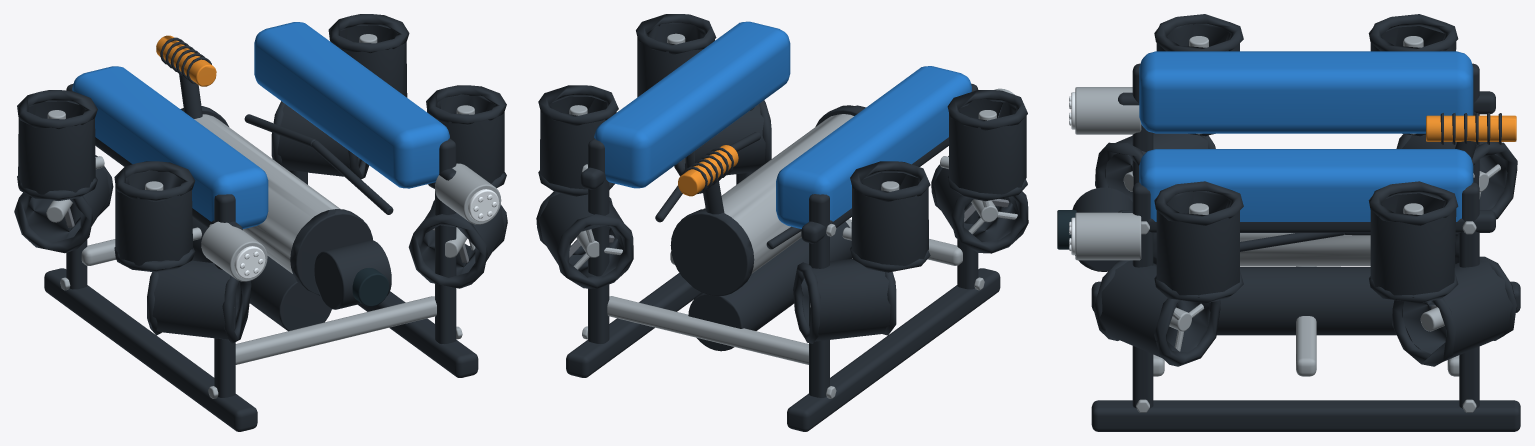
The model's file is bluerov2_heavy_lod2.glb.
3 views of the same model, side by side, from view 1: azimuth 30°, elevation 25°; view 2: azimuth 150°, elevation 25°; view 3: azimuth 270°, elevation 25° (orthographic). The views are drawn at different scales.
Visible parts, largest first — view 1: Buoyancy shoulder, Buoyancy shoulder.001, Skid rail.001, T8 open duct, T6 open duct, Electronics pressure housing, T2 open duct, Deck cross member.002, Battery housing, T5 open duct, Pressure end cap.001, Camera gimbal (+29 smaller); view 2: Buoyancy shoulder, Buoyancy shoulder.001, Skid rail.001, T6 open duct, Battery housing, T8 open duct, Pressure end cap, T4 open duct, Electronics pressure housing, Deck cross member, T7 open duct, Skid rail (+22 smaller); view 3: Buoyancy shoulder.001, Buoyancy shoulder, Skid rail, Battery housing, T7 open duct, T5 open duct, T3 open duct, T1 open duct, Electronics pressure housing, LED housing 0, LED housing 1, Frame upright (+25 smaller).
Part boxes in pixels (left/top/right/bottom): Buoyancy shoulder: left=254, top=22, right=449, bottom=188; Buoyancy shoulder.001: left=72, top=66, right=268, bottom=228; Skid rail.001: left=44, top=268, right=257, bottom=431; T8 open duct: left=18, top=101, right=95, bottom=194; T6 open duct: left=115, top=170, right=192, bottom=265; Electronics pressure housing: left=194, top=114, right=340, bottom=273; T2 open duct: left=152, top=260, right=239, bottom=339; Deck cross member.002: left=235, top=296, right=436, bottom=364; Battery housing: left=192, top=217, right=331, bottom=331; T5 open duct: left=427, top=94, right=504, bottom=183; Pressure end cap.001: left=290, top=209, right=373, bottom=295; Camera gimbal: left=314, top=240, right=391, bottom=309; Buoyancy shoulder: left=594, top=21, right=790, bottom=188; Buoyancy shoulder.001: left=776, top=66, right=971, bottom=228; Skid rail.001: left=787, top=268, right=1000, bottom=431; T6 open duct: left=949, top=99, right=1026, bottom=194; Battery housing: left=688, top=221, right=852, bottom=351; T8 open duct: left=851, top=172, right=928, bottom=265; Pressure end cap: left=670, top=209, right=754, bottom=296; T4 open duct: left=801, top=259, right=890, bottom=341; Electronics pressure housing: left=704, top=114, right=853, bottom=273; Deck cross member: left=607, top=296, right=808, bottom=364; T7 open duct: left=540, top=96, right=616, bottom=189; Skid rail: left=566, top=273, right=701, bottom=377; Buoyancy shoulder.001: left=1139, top=51, right=1473, bottom=133; Buoyancy shoulder: left=1139, top=149, right=1473, bottom=221; Skid rail: left=1091, top=400, right=1520, bottom=431; Battery housing: left=1216, top=267, right=1396, bottom=335; T7 open duct: left=1370, top=193, right=1456, bottom=297; T5 open duct: left=1156, top=191, right=1239, bottom=297; T3 open duct: left=1403, top=260, right=1512, bottom=361; T1 open duct: left=1098, top=260, right=1210, bottom=357; Electronics pressure housing: left=1240, top=233, right=1370, bottom=266; LED housing 0: left=1075, top=212, right=1141, bottom=260; LED housing 1: left=1075, top=87, right=1141, bottom=134; Frame upright: left=1459, top=182, right=1479, bottom=408.
Size of the model in its own units: 0.587 by 0.3468 by 0.562.
